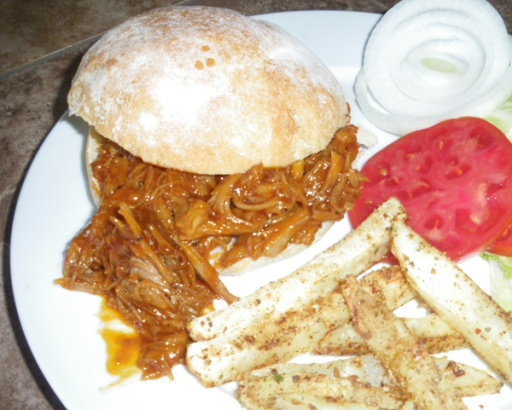background: (42, 0, 409, 263)
